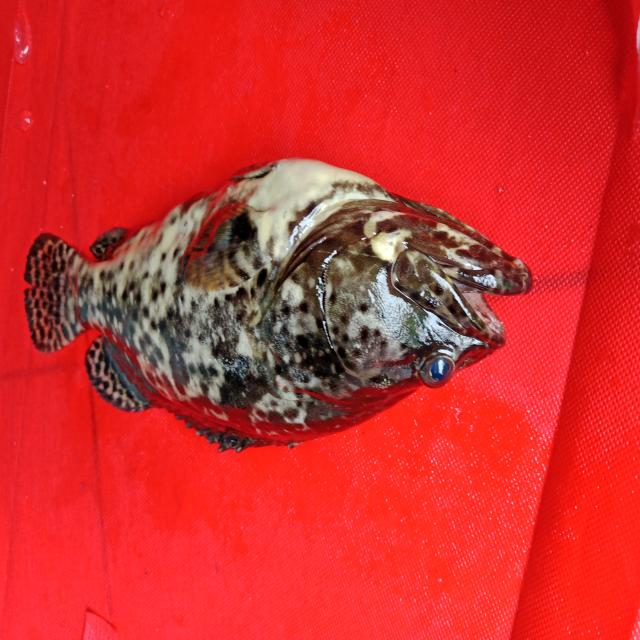ikan: (14, 127, 541, 478)
